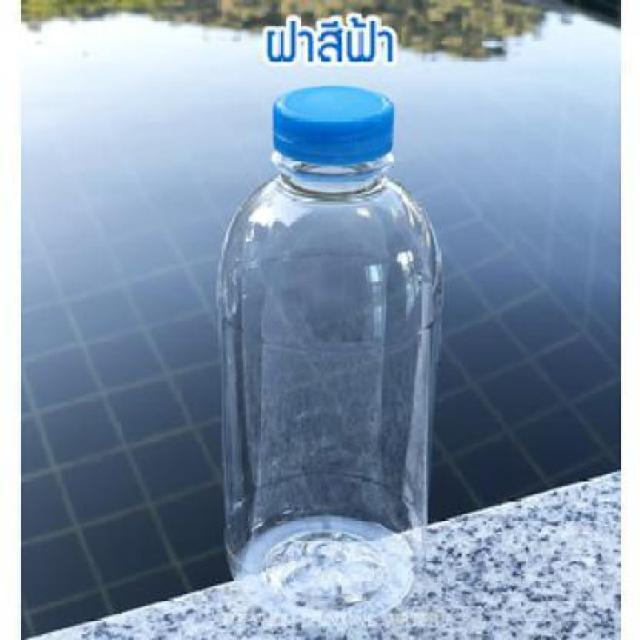bottle: (217, 84, 444, 631)
